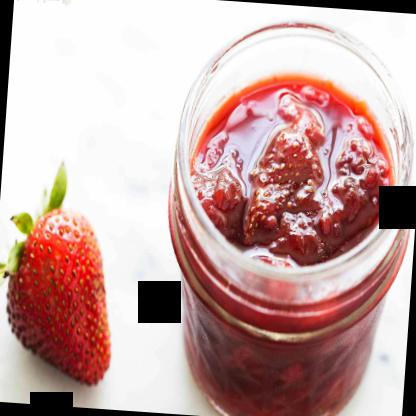strawberry: (0, 196, 120, 384)
